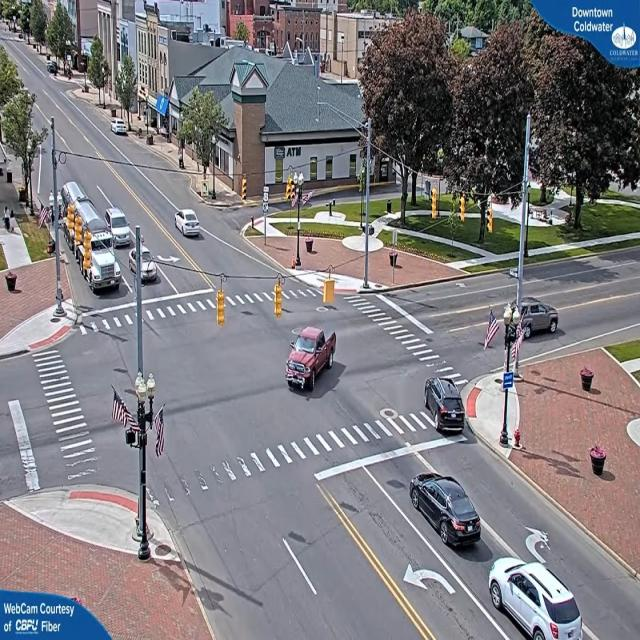car: (490, 561, 588, 640), (409, 477, 482, 551), (285, 328, 338, 396), (424, 375, 465, 435), (525, 298, 563, 340), (106, 209, 133, 248), (176, 208, 204, 238), (139, 249, 158, 283), (112, 120, 129, 136)
truck: (84, 243, 122, 293)
